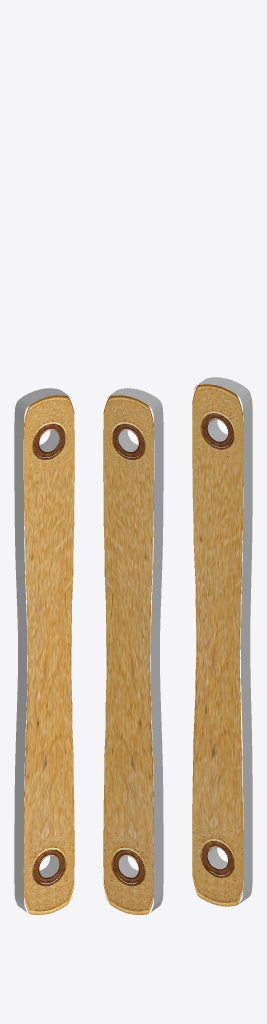
The model's file is UpperLeg.glb.
3 views of the same model, side by side, from view 1: azimuth 30°, elevation 25°; view 2: azimuth 150°, elevation 25°; view 3: azimuth 330°, elevation 25° (orthographic).
Visible parts, largest first — view 1: PaperVolume; view 2: PaperVolume; view 3: PaperVolume.
Part boxes in pixels (x1=…): PaperVolume: x1=14, y1=388, x2=74, y2=914; PaperVolume: x1=103, y1=388, x2=163, y2=914; PaperVolume: x1=192, y1=377, x2=252, y2=906.
Bounding box in the file's own units: 0.25 × 4.63 × 0.08.
Materials: 3 (2 with a texture image).
